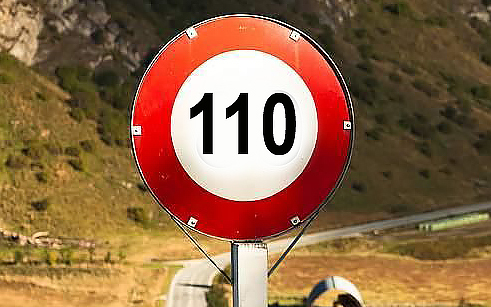Speed_limit_110km: (127, 15, 356, 243)
